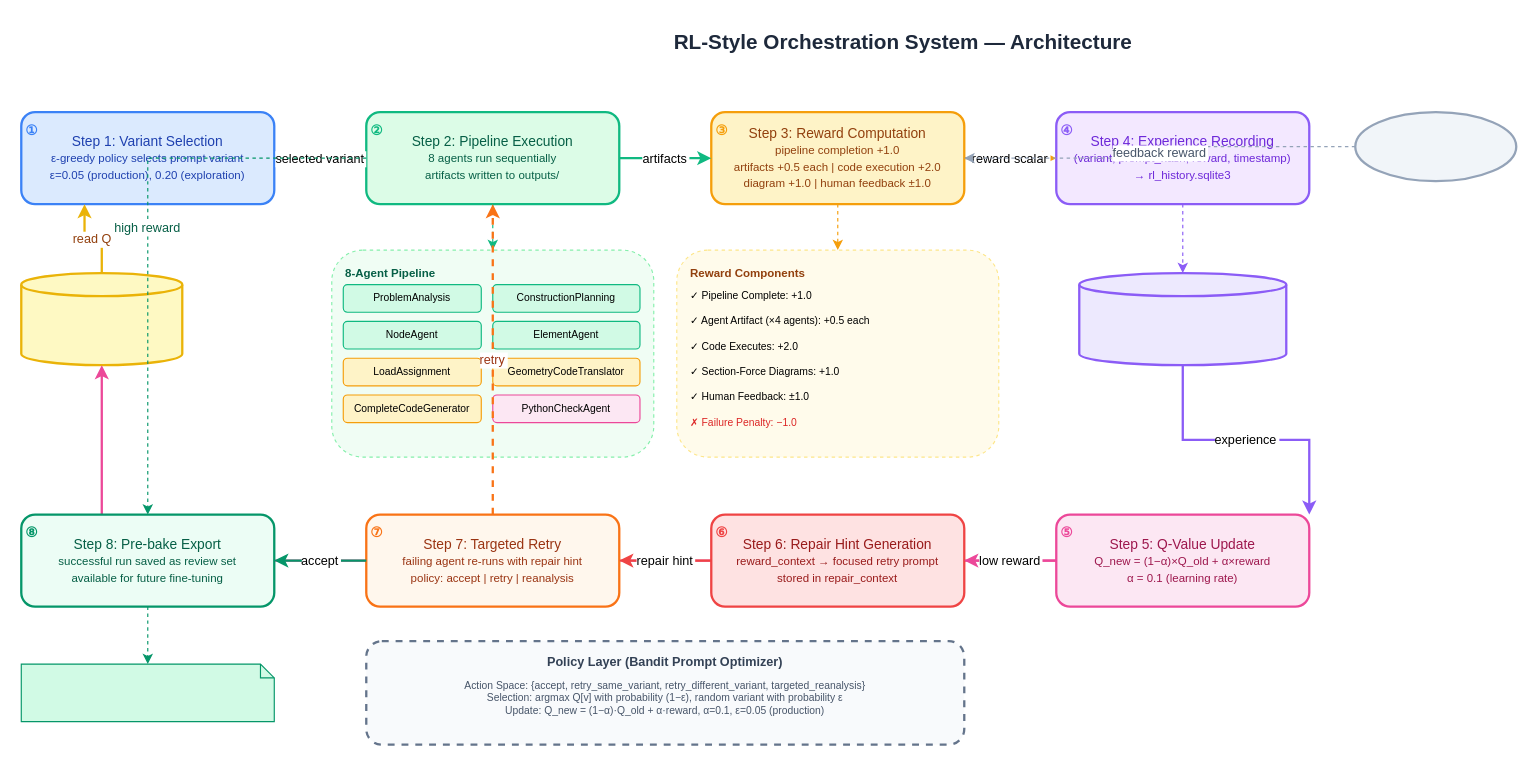
The diagram is 1536 pixels wide and 765 high, and some of its shapes have lost their labels. The centre of each missing label's shape, as x and y in pixels:
"Human Feedback 👍 +1.0 | 👎 −1.0" belongs at point 1435,146.
"Q-Table Q[variant] → float" belongs at point 101,318.
"review_set.jsonl (prompt, output, reward) tuples" belongs at point 147,692.
"rl_history.sqlite3 variant | prompt_hash | reward timestamp | repair_ctx" belongs at point 1182,318.
